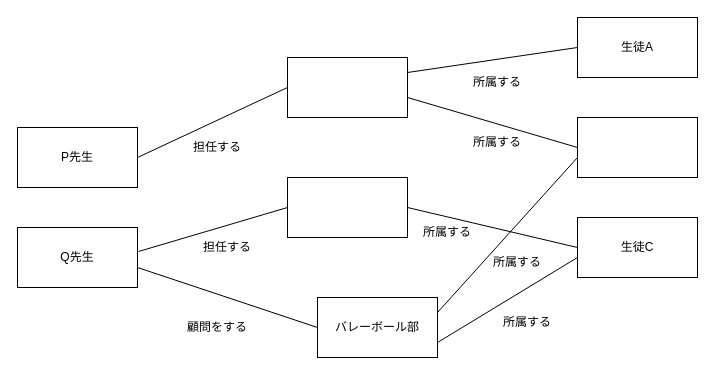
Image size: 715x375. Some labels were removed from this diagram. The shapes that lost their labels are listed below. From the top down, each one's box as (x1, y1, x2, y2) in pixels, then its label:
(286, 56, 408, 118): 1年1組
(576, 116, 698, 178): 生徒B
(286, 176, 408, 238): 1年2組
